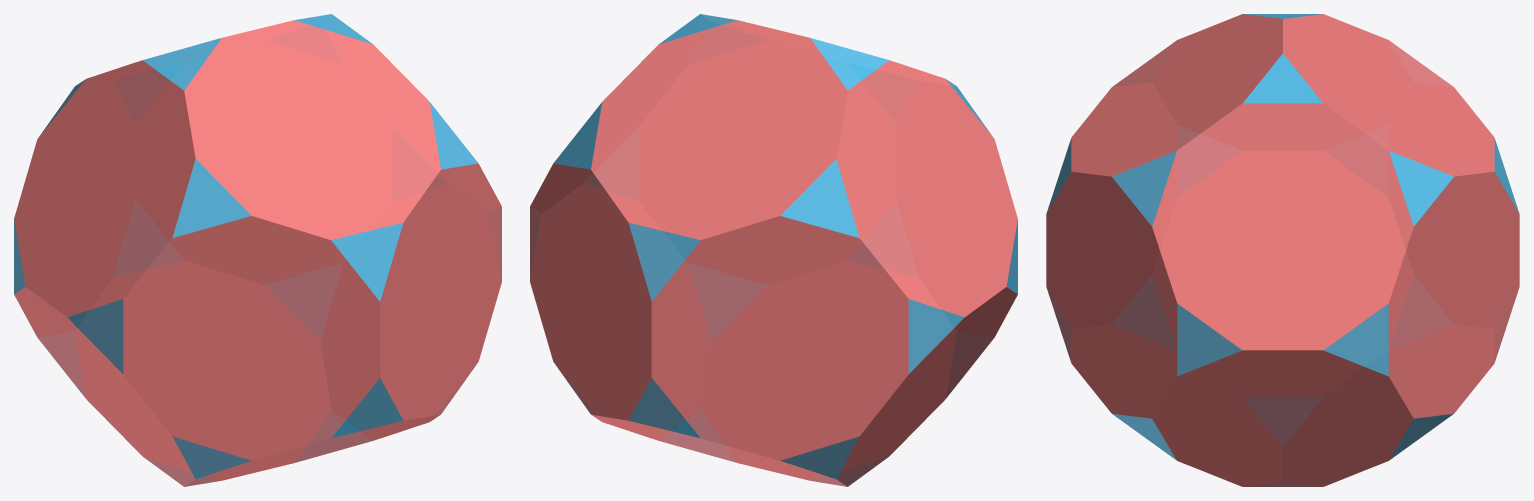
The model's file is TruncatedDodecahedron.obj.
3 renders of one model, left to right at view 1: azimuth 30°, elevation 25°; view 2: azimuth 150°, elevation 25°; view 3: azimuth 270°, elevation 25°, orthographic. The views are drawn at different scales.
Bounding box in the file's own units: 5.85 × 5.85 × 5.85.
